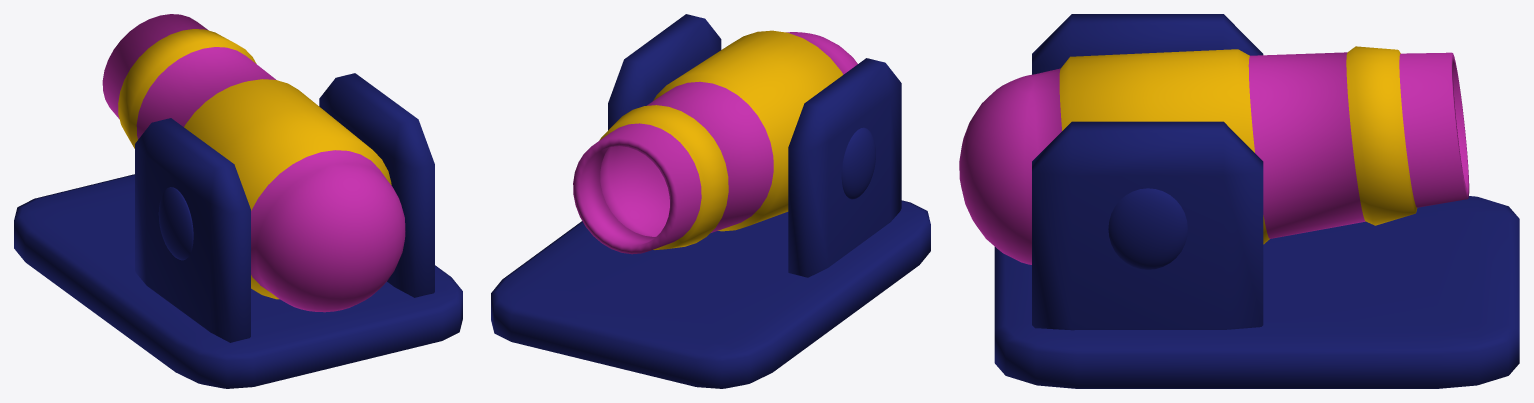
Rendered from OO_Cannon.fbx.
3 renders of one model, left to right at view 1: azimuth 30°, elevation 25°; view 2: azimuth 150°, elevation 25°; view 3: azimuth 270°, elevation 25°, orthographic. The views are drawn at different scales.
Visible parts, largest first — view 1: 0_CannonBody; view 2: 0_CannonBody; view 3: 0_CannonBody.
Part boxes in pixels (x1=…): 0_CannonBody: x1=14, y1=14, x2=462, y2=388; 0_CannonBody: x1=491, y1=14, x2=930, y2=388; 0_CannonBody: x1=959, y1=14, x2=1519, y2=388.
Bounding box in the file's own units: 322 × 244 × 472.
